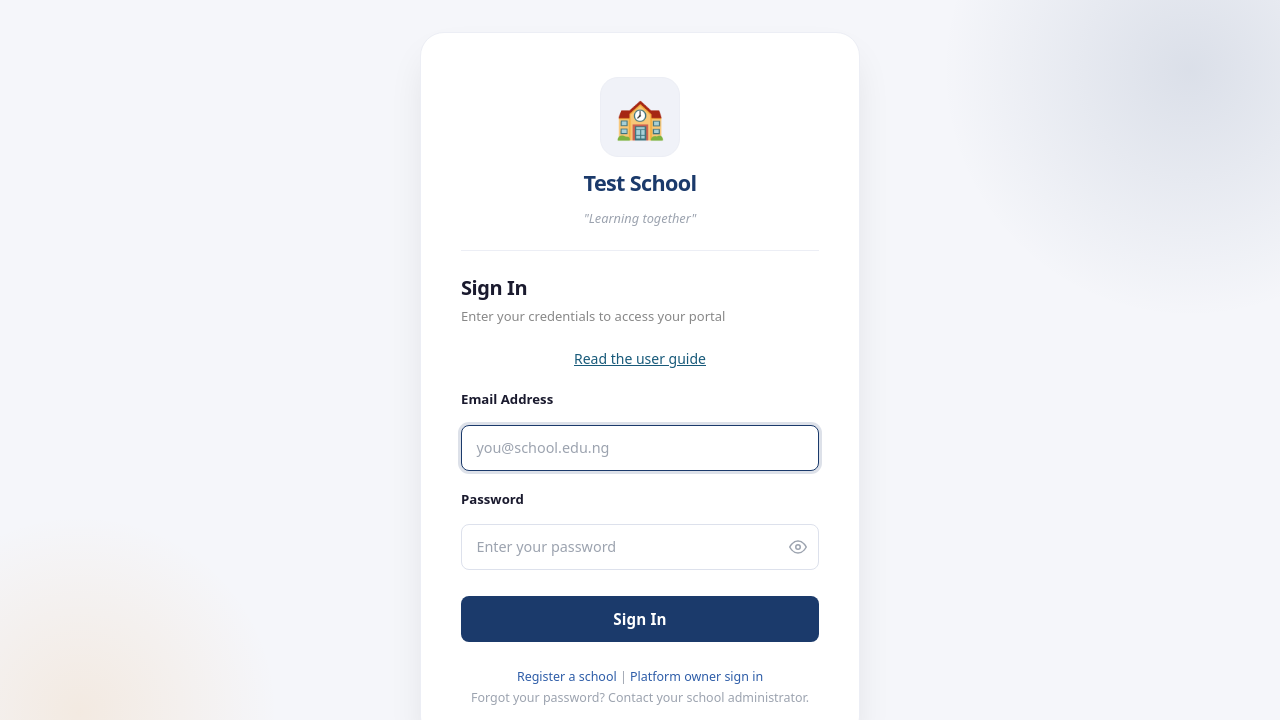
Test: Login Page › Form Validation › should show error if email is empty on submit
The image size is (1280, 720).
Step 1. Click the button "Sign In" → (640, 619), box [461,596,819,642]
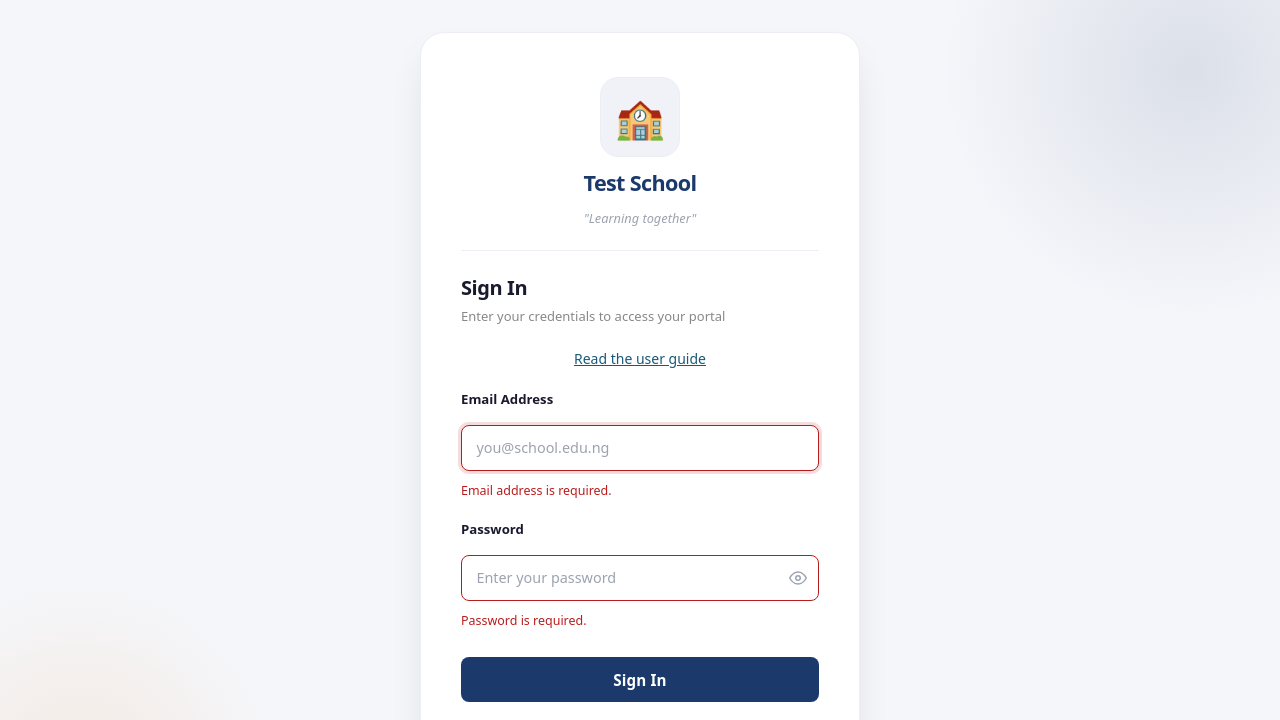
Result: the text "Email address is required." is shown at [461,482,612,499]
